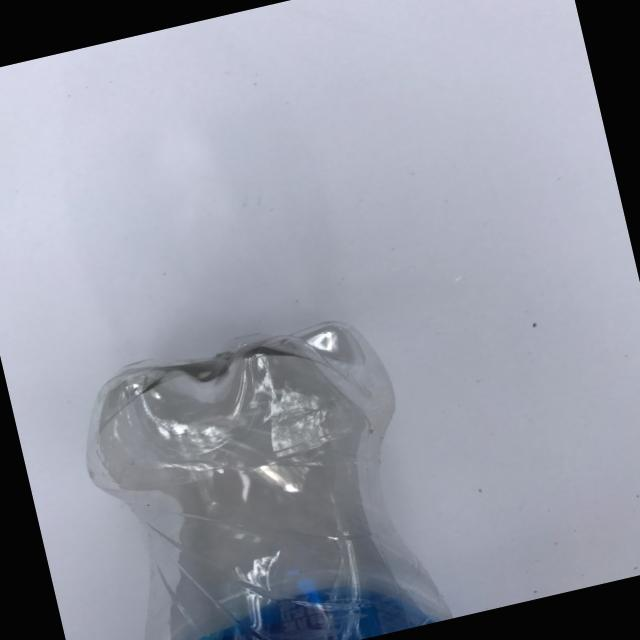Plastic: (15, 284, 479, 640)
